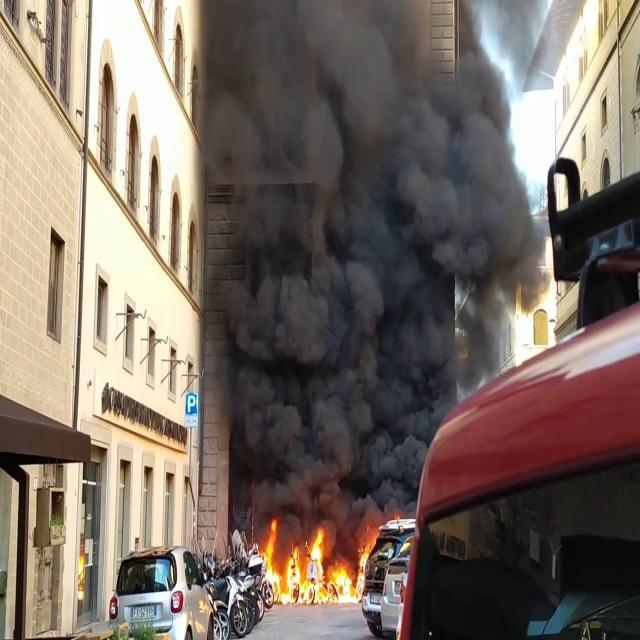Fire: (260, 519, 368, 605)
Smoke: (191, 0, 542, 477)
